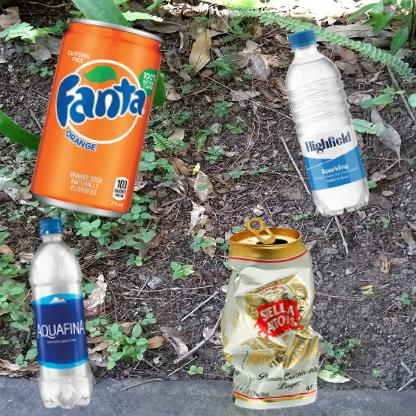botella: (213, 10, 416, 249), (10, 213, 112, 416)
lata: (10, 10, 196, 243), (213, 213, 328, 416)
